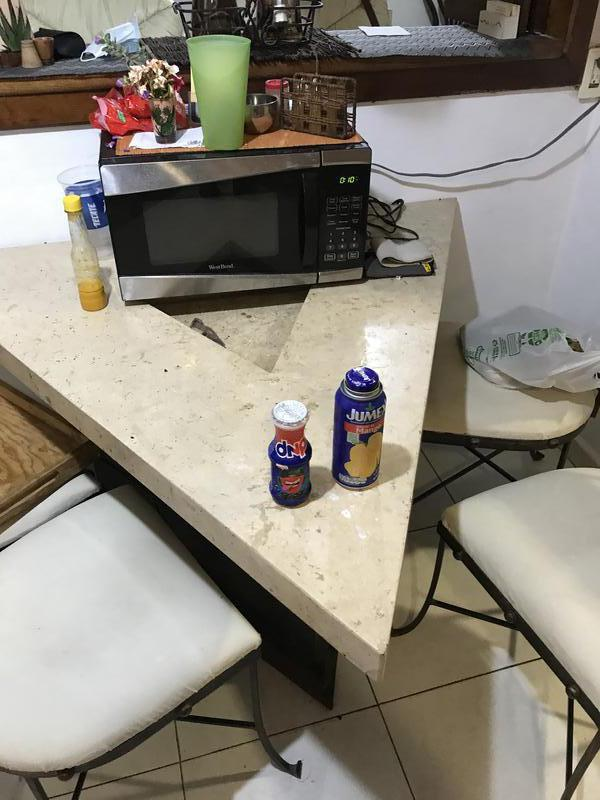danup: (265, 400, 315, 504)
jugo_jumex: (332, 367, 384, 489)
